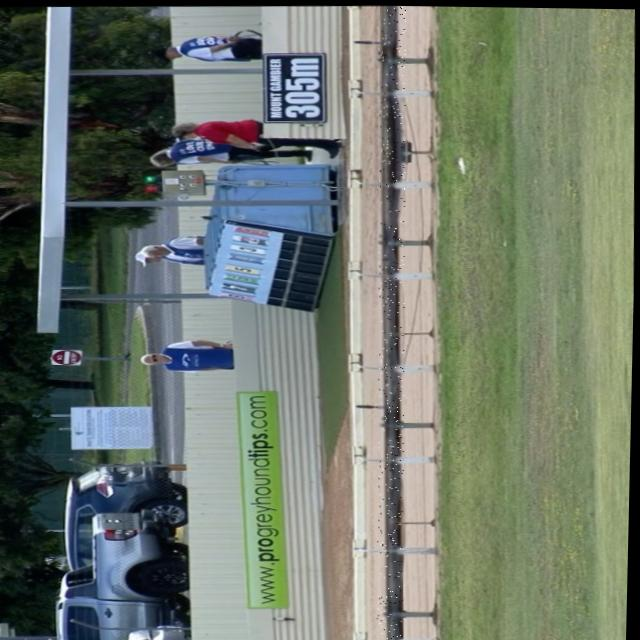rail: (380, 4, 405, 640)
